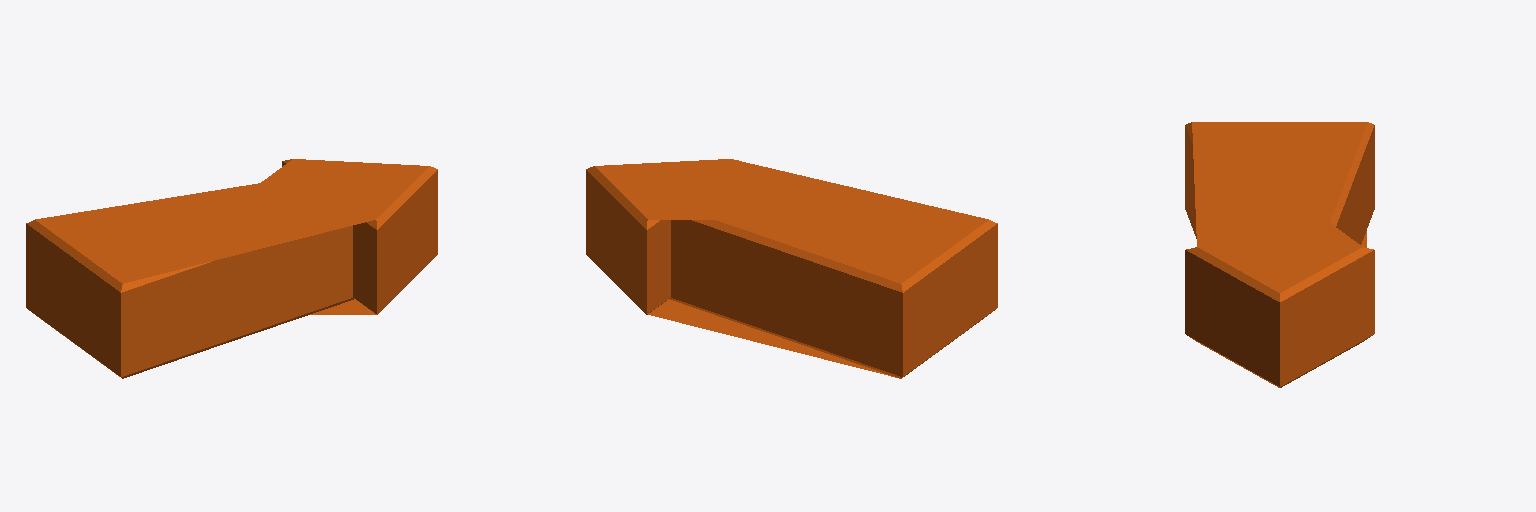
File: arrow.obj
The picture shows the model from 3 angles: view 1: azimuth 30°, elevation 25°; view 2: azimuth 150°, elevation 25°; view 3: azimuth 270°, elevation 25°; orthographic projection.
Parts seen in each view (by area): view 1: Mesh1 Group1 Model; view 2: Mesh1 Group1 Model; view 3: Mesh1 Group1 Model.
Part boxes in pixels (x1,y1,x2,y2): Mesh1 Group1 Model: (26, 159, 437, 378); Mesh1 Group1 Model: (586, 159, 997, 378); Mesh1 Group1 Model: (1185, 122, 1374, 387).
Bounding box in the file's own units: 72.25 × 18 × 32.5.